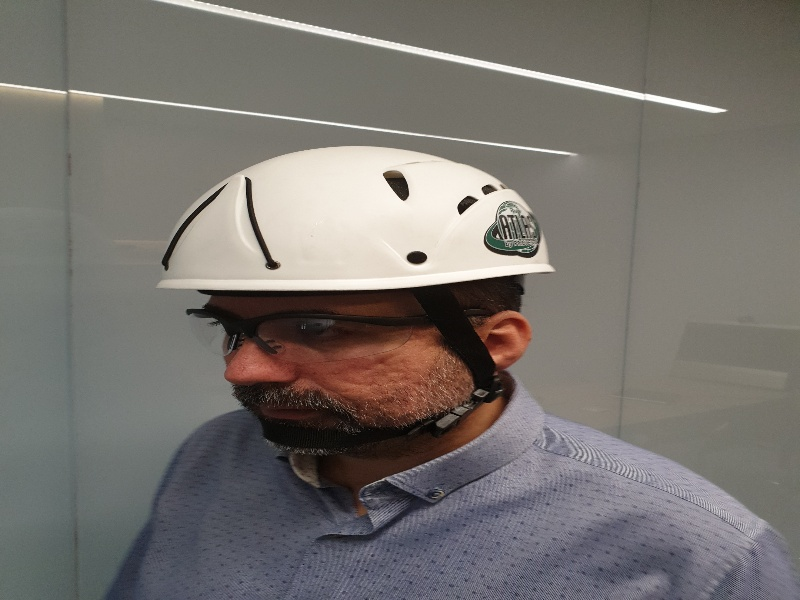Baret: (157, 146, 556, 290)
Gozluk: (187, 306, 497, 356)
